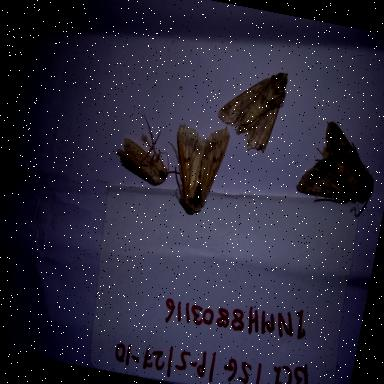abw: (291, 114, 384, 224), (209, 54, 295, 160), (158, 116, 236, 228), (108, 106, 188, 198)
